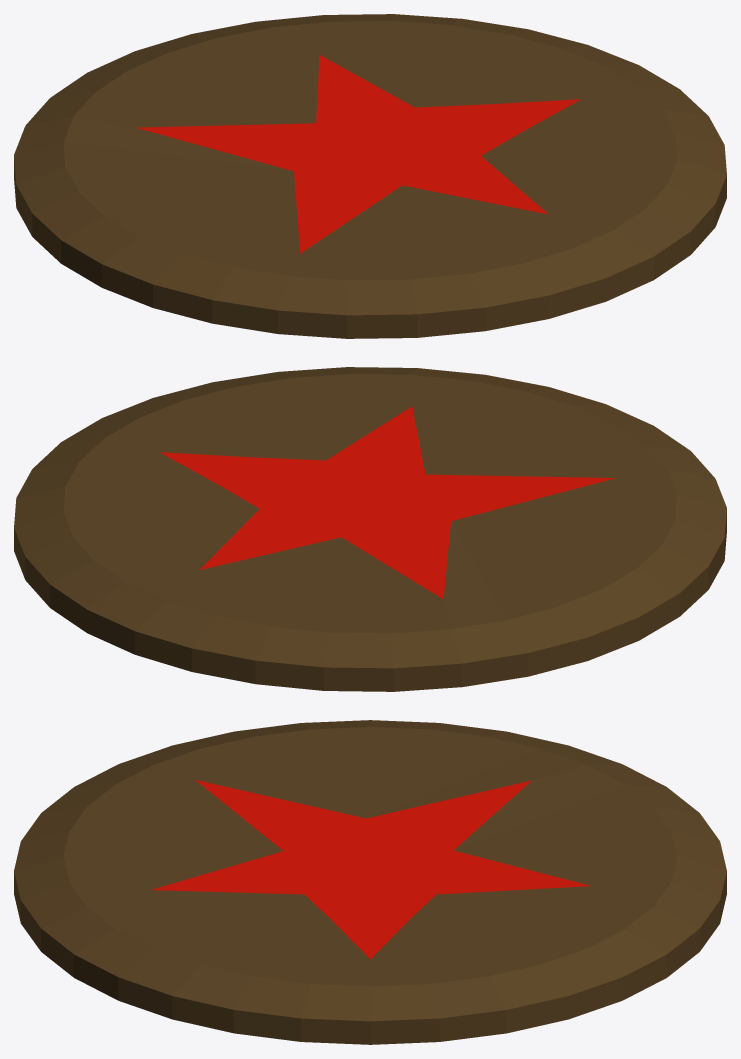
File: PodstawkaRus.fbx
3 renders of one model, top to bottom at view 1: azimuth 30°, elevation 25°; view 2: azimuth 150°, elevation 25°; view 3: azimuth 270°, elevation 25°, orthographic.
Parts seen in each view (by area): view 1: RusPodstawka; view 2: RusPodstawka; view 3: RusPodstawka.
Part boxes in pixels (bbox=[...]): RusPodstawka: bbox=[14, 14, 726, 338]; RusPodstawka: bbox=[14, 367, 726, 691]; RusPodstawka: bbox=[14, 720, 726, 1044].
Bounding box in the file's own units: 262 × 15.73 × 262.
